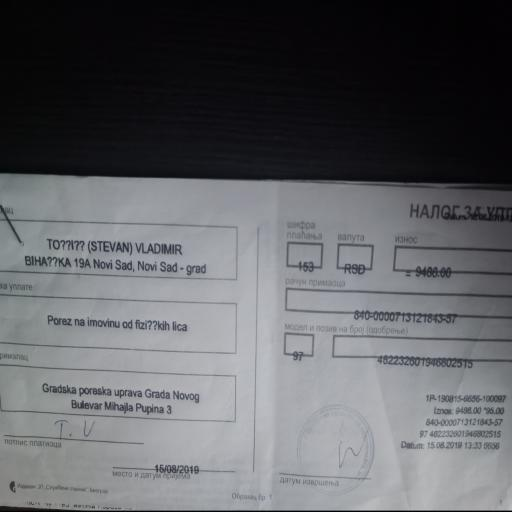svrha_uplate: (3, 290, 237, 353)
uplatnica: (280, 212, 509, 373)
